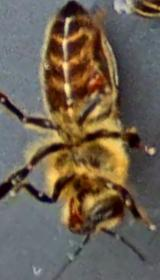varroa_mite: (79, 63, 109, 98)
